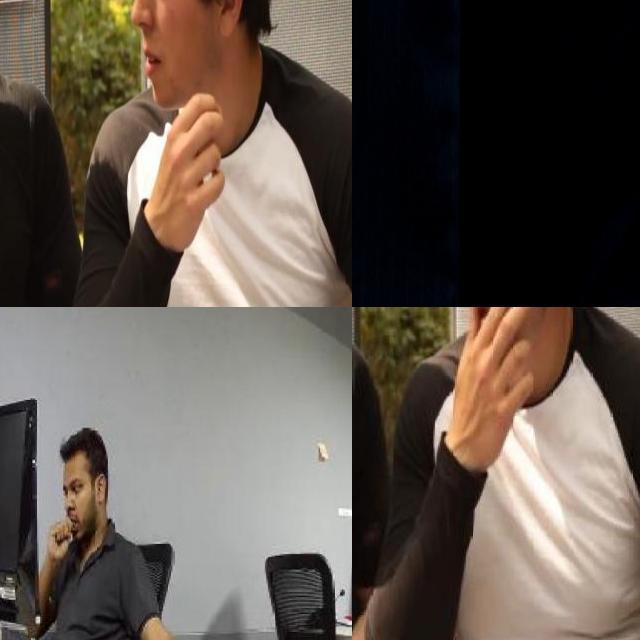-: (352, 450, 389, 640)
gun-knife-thesis - v11 Yolov5 augmented: (352, 0, 445, 307)
